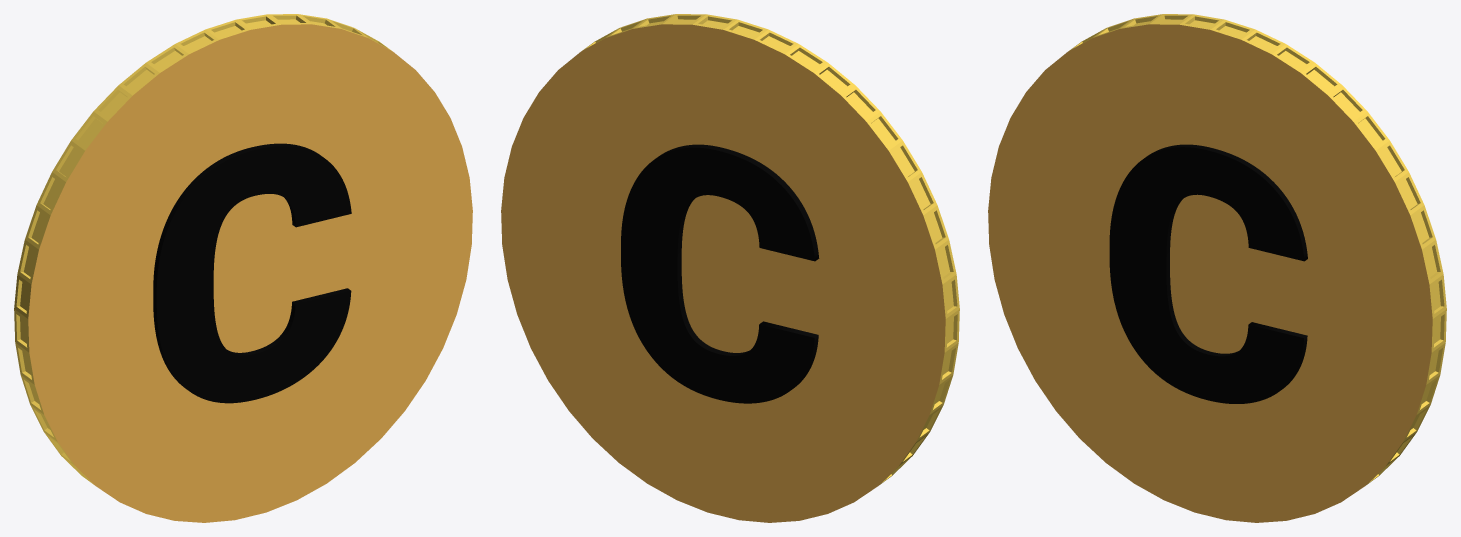
File: coin1.fbx
The picture shows the model from 3 angles, left to right: view 1: azimuth 30°, elevation 25°; view 2: azimuth 150°, elevation 25°; view 3: azimuth 330°, elevation 25°; orthographic projection.
Parts seen in each view (by area): view 1: Cylinder; view 2: Cylinder; view 3: Cylinder.
Boxes of the visible parts, x1,y1,x2,y2 form: Cylinder: (14,14,472,522); Cylinder: (501,14,959,522); Cylinder: (988,14,1446,522).
Bounding box in the file's own units: 187 × 195 × 15.84.
